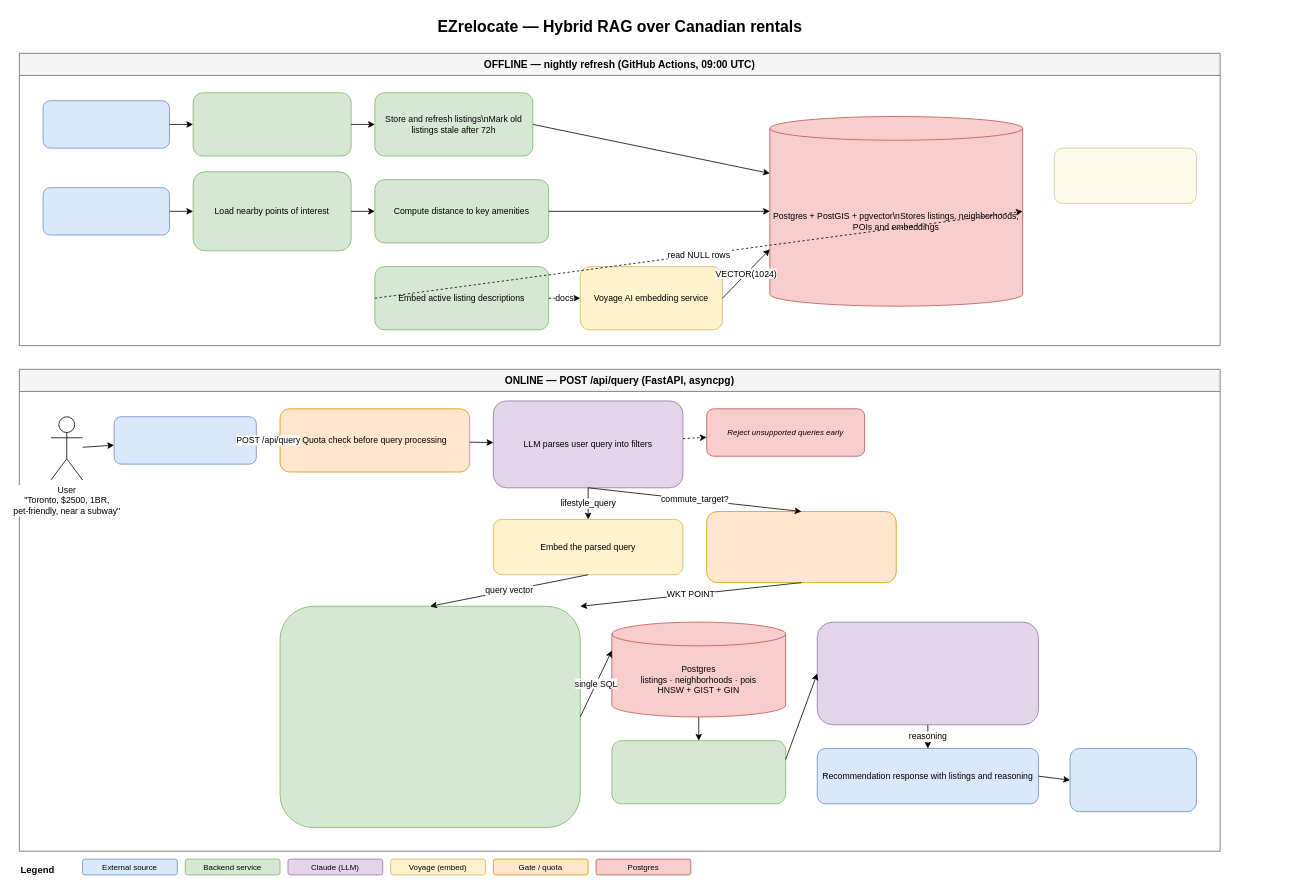
Some shapes in this 1302 by 889 pixel diagram are drawn without their labels. The shapes that lost their labels are listed below. From the top down, each one's centre as x and y in pixels, then its label:
[105,124]: Kijiji rental feed
[271,124]: Scrape Kijiji listings
[1124,175]: Old listings become stale after 72h\nand are excluded from results
[105,211]: OpenStreetMap amenities
[184,440]: Next.js UI + map
[801,547]: Resolve commute target to a location
[927,673]: Generate a short recommendation summary
[429,717]: Retrieve listings with filters, geosearch, and vector similarity
[698,772]: Top 5 candidate listings
[1132,780]: Browser shows map pins and explanation
